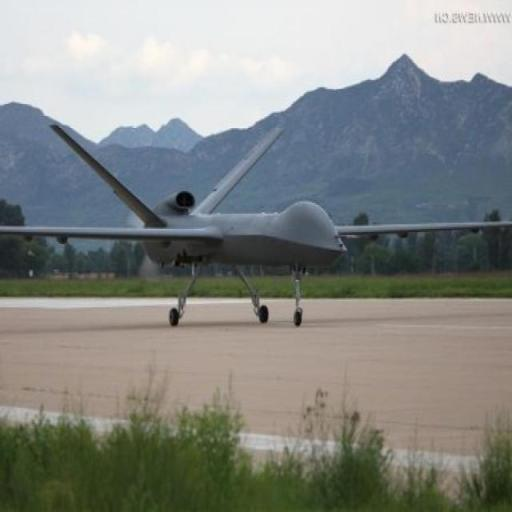uav: (0, 111, 510, 331)
